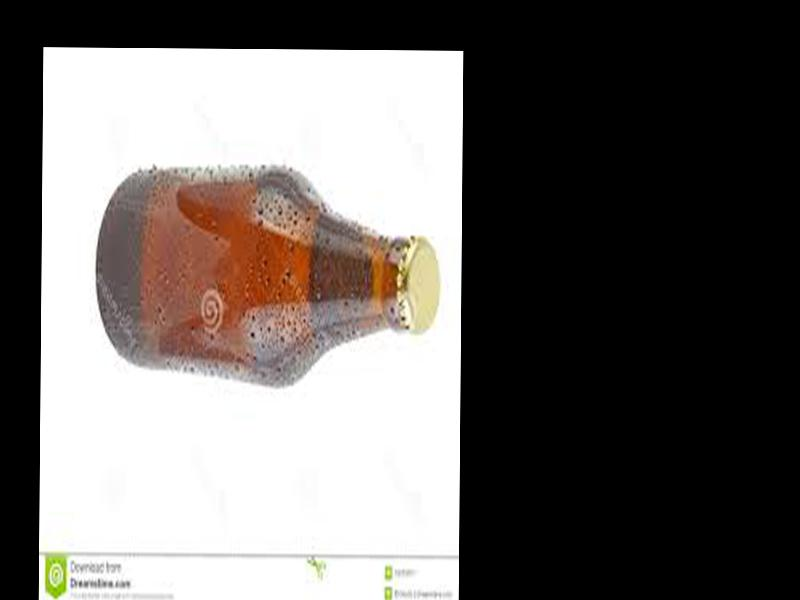Beer: (96, 164, 439, 387)
